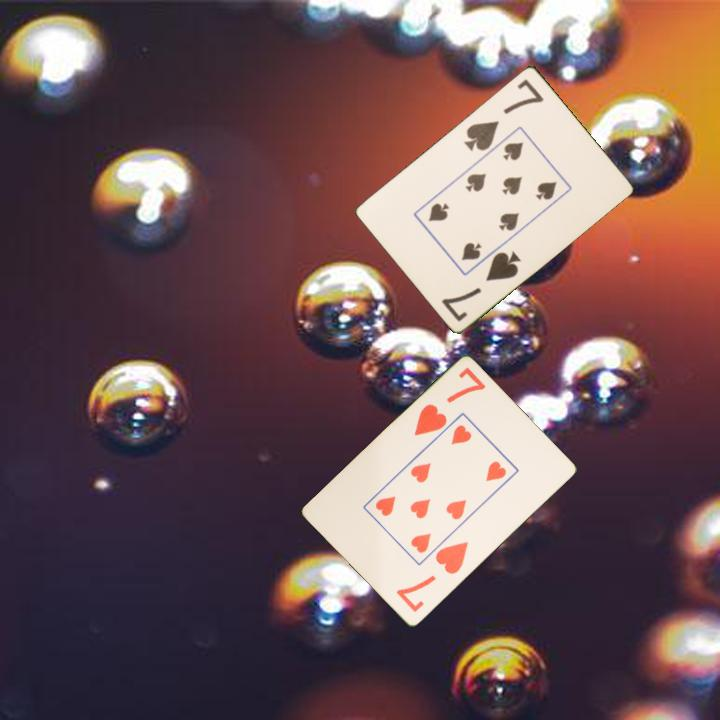7h: (393, 538, 471, 616), (410, 364, 488, 439)
7s: (460, 75, 547, 154), (438, 247, 524, 324)
